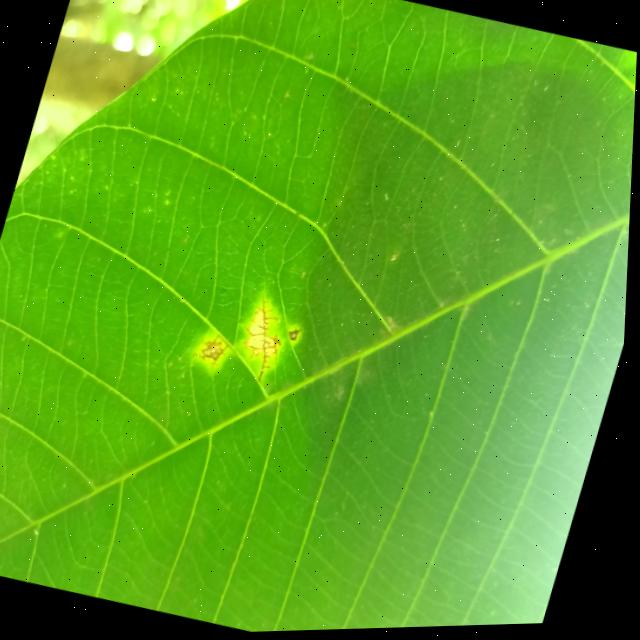Corynespora: (233, 294, 297, 385), (195, 330, 235, 371)
